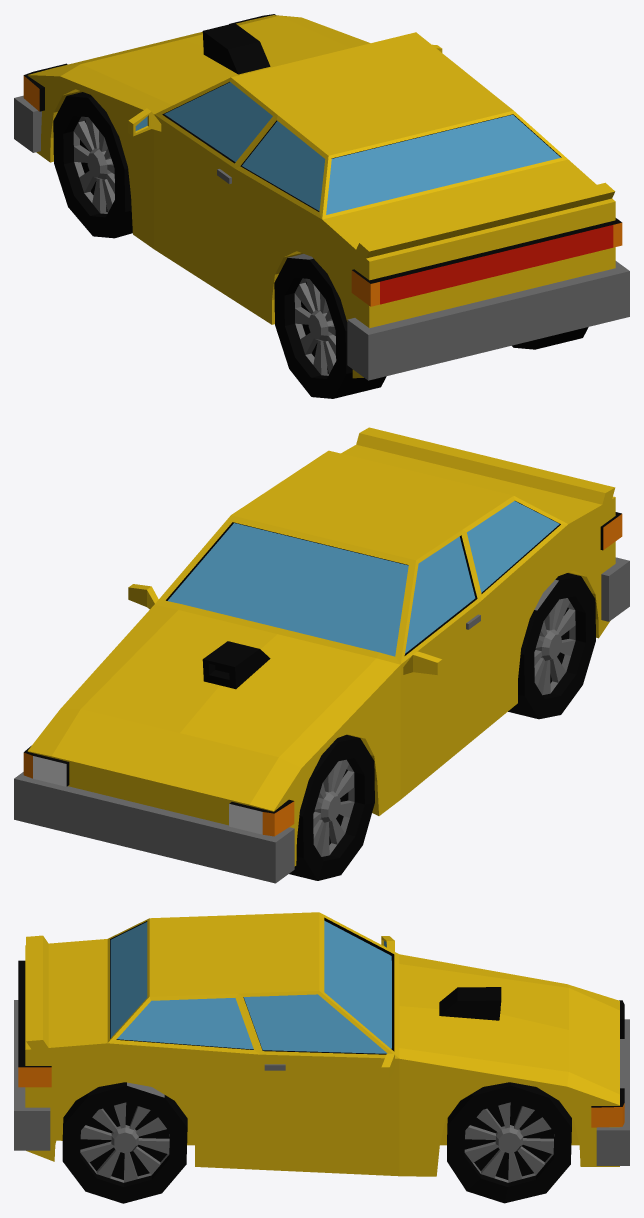
File: muscleCar.fbx
3 views of the same model, one above another, from view 1: azimuth 30°, elevation 25°; view 2: azimuth 150°, elevation 25°; view 3: azimuth 270°, elevation 25° (orthographic). The views are drawn at different scales.
Parts seen in each view (by area): view 1: car001.007; view 2: car001.007; view 3: car001.007.
Part boxes in pixels (x1=…): car001.007: x1=14, y1=14, x2=629, y2=398; car001.007: x1=14, y1=427, x2=629, y2=883; car001.007: x1=14, y1=912, x2=629, y2=1203.
Size of the model in its own units: 110 by 77.61 by 217.
